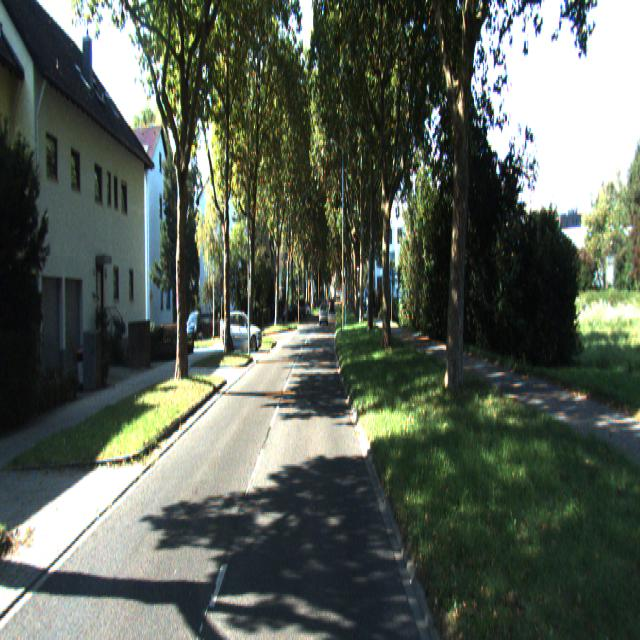Car: (220, 312, 263, 353)
